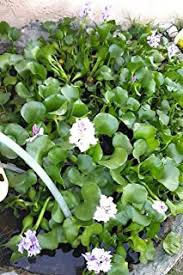water_hyacinth: (0, 80, 181, 273)
